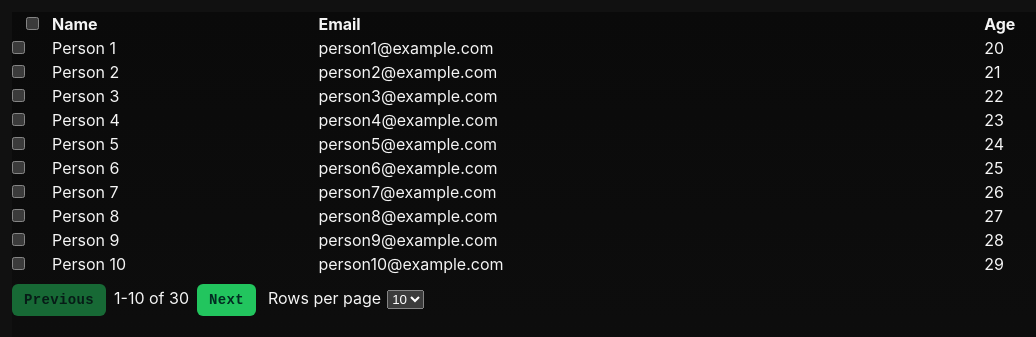
DataTable - Row Selection › maintains selection across pagination
The width and height of the screenshot is (1036, 337).
// Select first row on page 1
Click the checkbox named "Select row 1" at x=18, y=48, box [12,41,25,54]
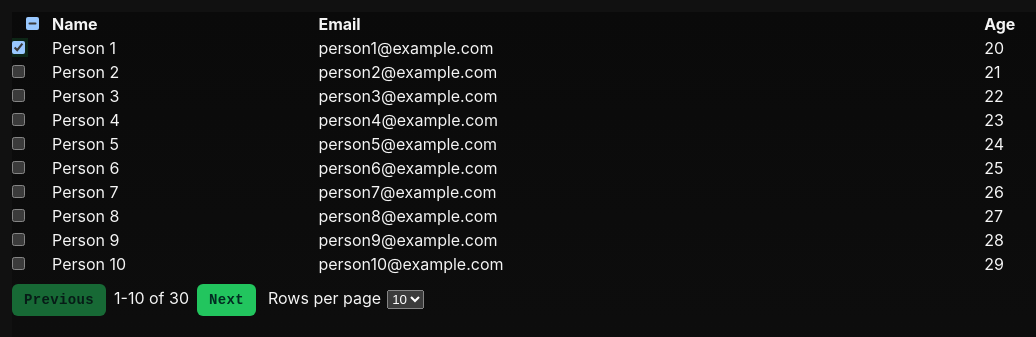
Now the checkbox named "Select row 1" is checked, box [12,41,25,54]
// Navigate to page 2
Click the button "Next" at x=226, y=300, box [197,284,256,316]
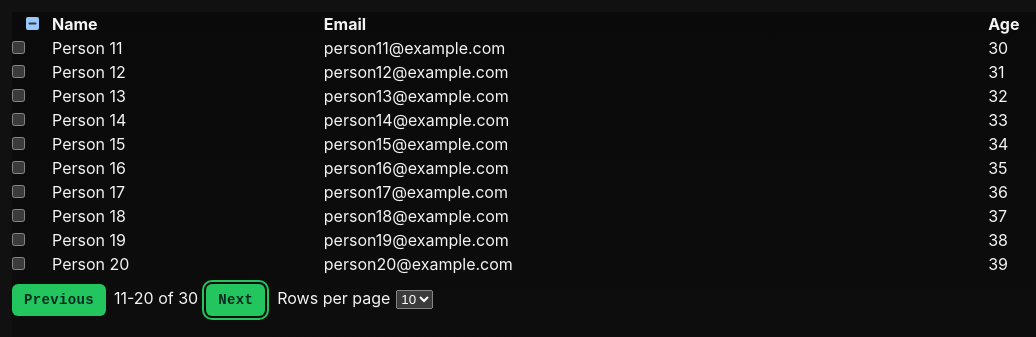
// Navigate back to page 1
Click the button "Previous" at x=59, y=300, box [12,284,106,316]
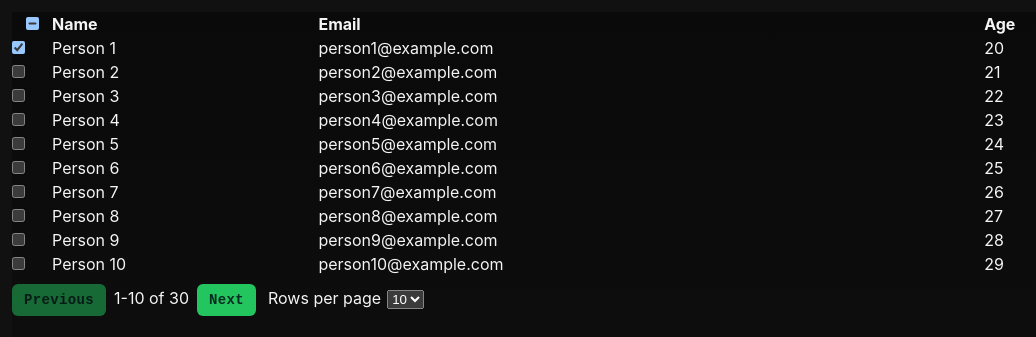
Now the checkbox named "Select row 1" is checked, box [12,41,25,54]
